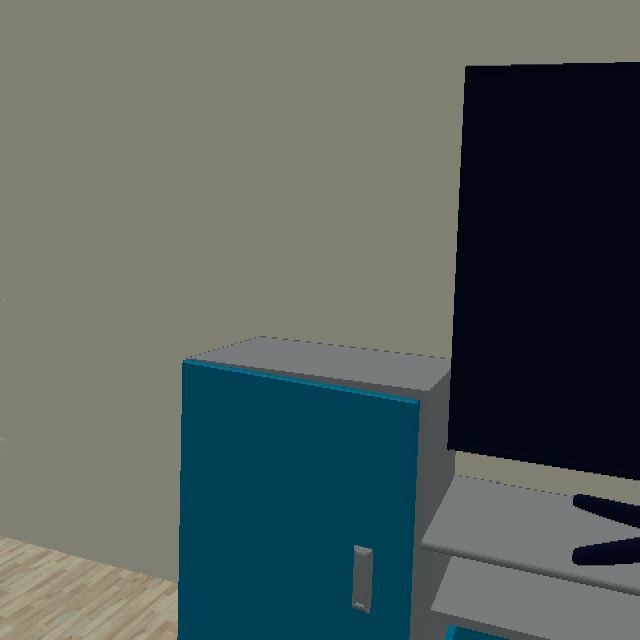cabinet: (177, 338, 629, 640)
monitor: (449, 62, 640, 483), (573, 494, 640, 530), (572, 537, 640, 567)
